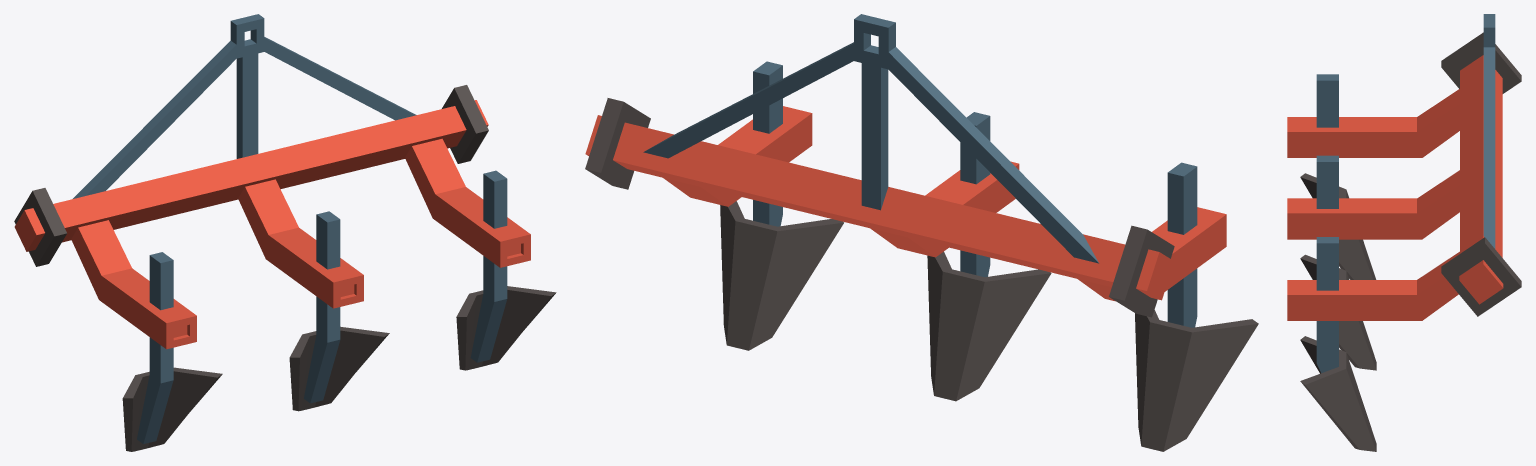
The model's file is Agricultural_Machine_1.fbx.
3 renders of one model, left to right at view 1: azimuth 30°, elevation 25°; view 2: azimuth 150°, elevation 25°; view 3: azimuth 270°, elevation 25°, orthographic. The views are drawn at different scales.
Parts seen in each view (by area): view 1: Agricultural_Machine_1; view 2: Agricultural_Machine_1; view 3: Agricultural_Machine_1.
Boxes of the visible parts, box(x1,y1,x2,y2) form: Agricultural_Machine_1: box(14, 14, 556, 451); Agricultural_Machine_1: box(585, 14, 1258, 451); Agricultural_Machine_1: box(1287, 14, 1521, 451).
Size of the model in its own units: 97.07 by 70.89 by 43.57.
